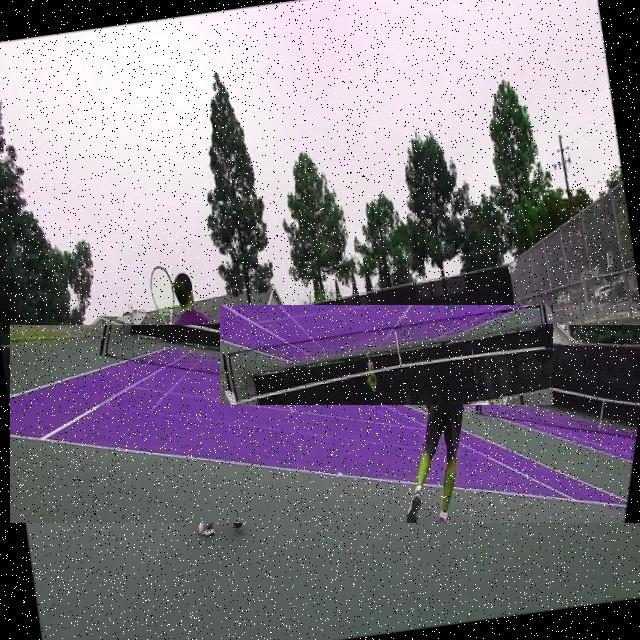court: (10, 325, 640, 523)
net: (220, 305, 553, 405)
player: (146, 258, 246, 539)
